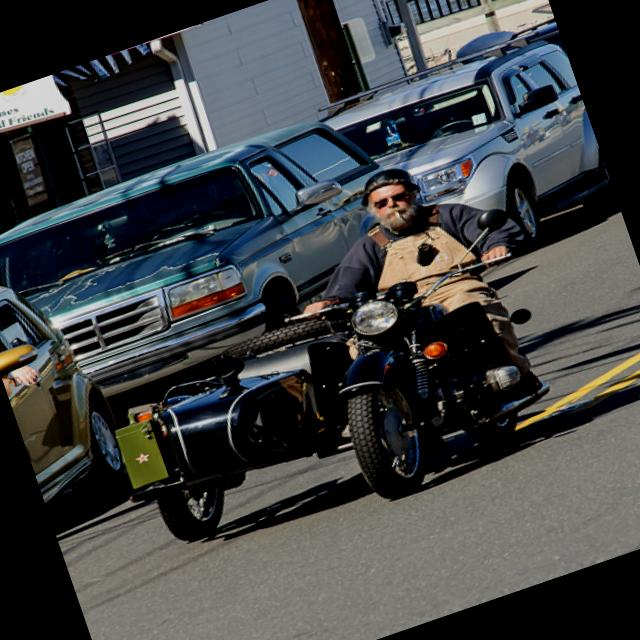Vehicle: (74, 202, 592, 583), (0, 94, 440, 433), (324, 29, 620, 290), (0, 259, 144, 536)
